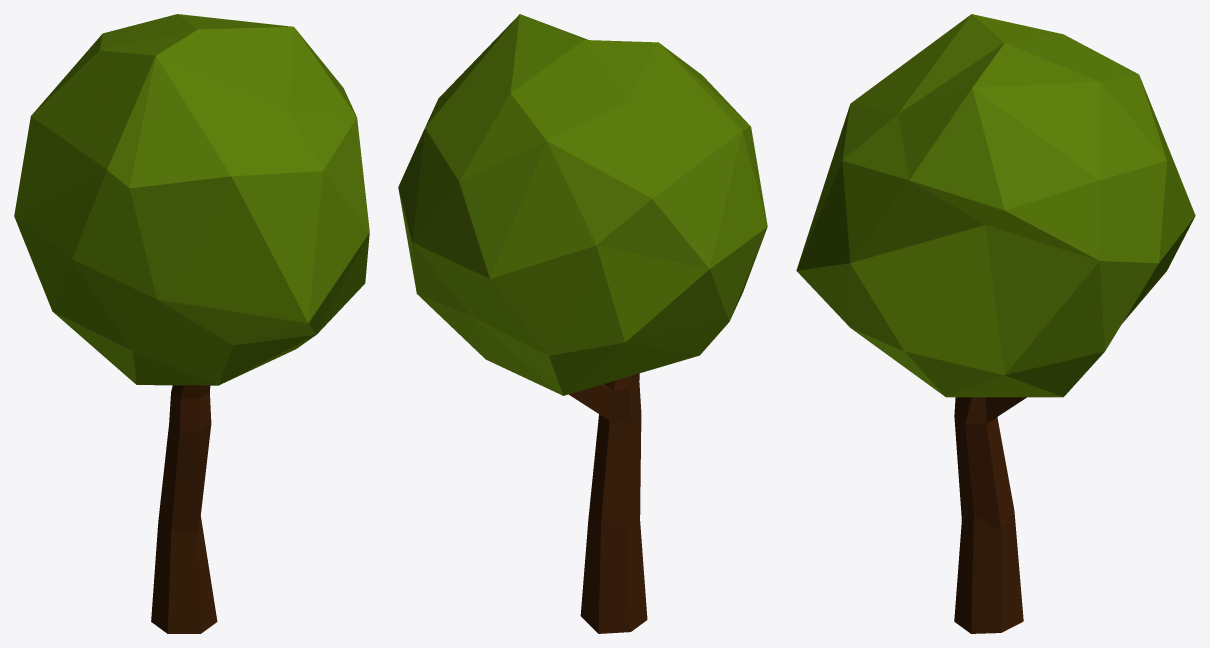
The model's file is tree_01.fbx.
3 renders of one model, left to right at view 1: azimuth 30°, elevation 25°; view 2: azimuth 150°, elevation 25°; view 3: azimuth 270°, elevation 25°, orthographic.
Visible parts, largest first — view 1: Icosphere, Cylinder; view 2: Icosphere, Cylinder; view 3: Icosphere, Cylinder.
Part boxes in pixels (bbox=[...]): Icosphere: bbox=[14, 14, 369, 385]; Cylinder: bbox=[151, 385, 217, 633]; Icosphere: bbox=[398, 14, 767, 395]; Cylinder: bbox=[569, 373, 647, 633]; Icosphere: bbox=[796, 14, 1195, 397]; Cylinder: bbox=[954, 397, 1026, 633].
Bounding box in the file's own units: 569 × 1052 × 644.
